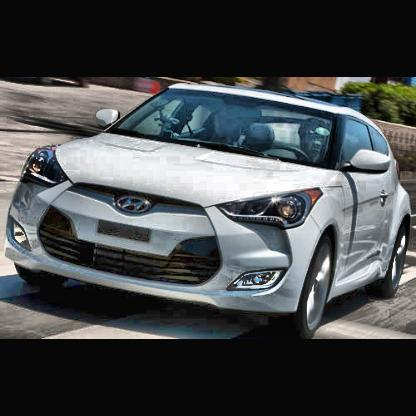Hyundai Veloster Hatchback 2012: (5, 84, 415, 336)
